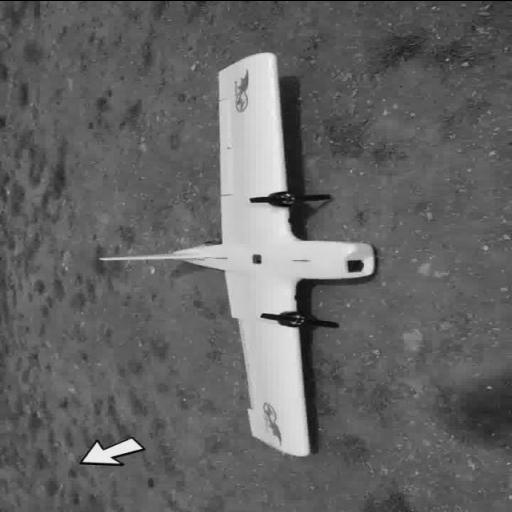uav: (94, 48, 386, 458)
